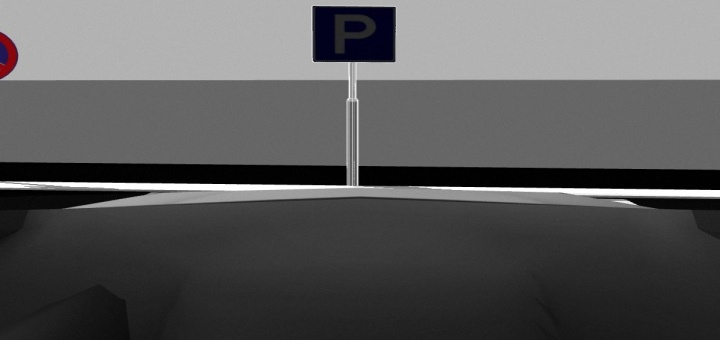park: (300, 3, 408, 64)
